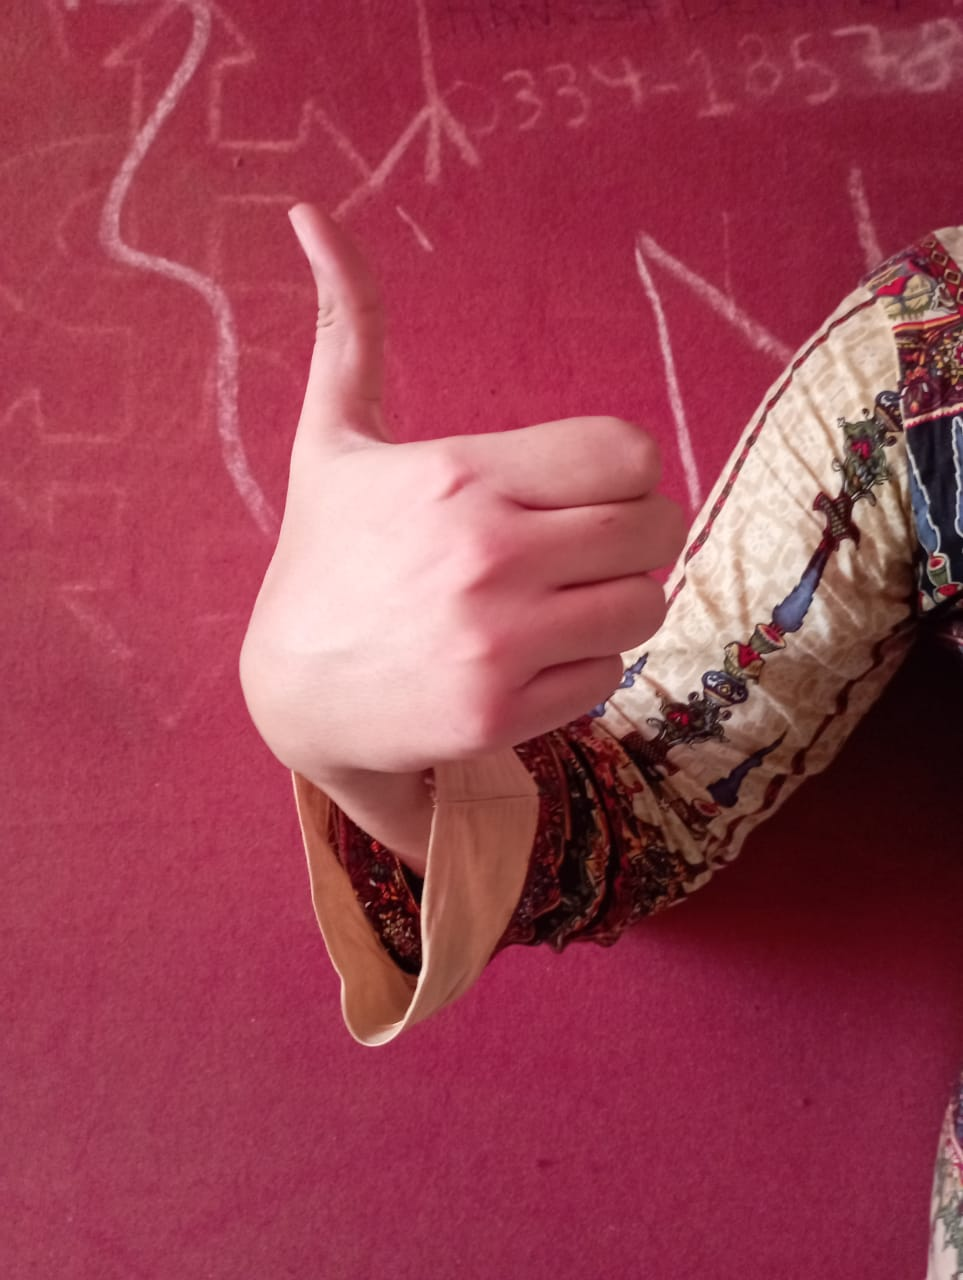I Like It: (234, 184, 680, 786)
